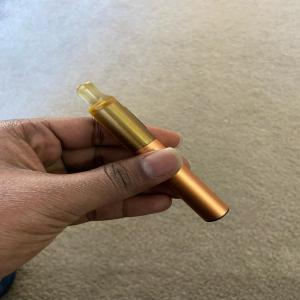Golden-E-Ciggirate: (67, 76, 237, 230)
